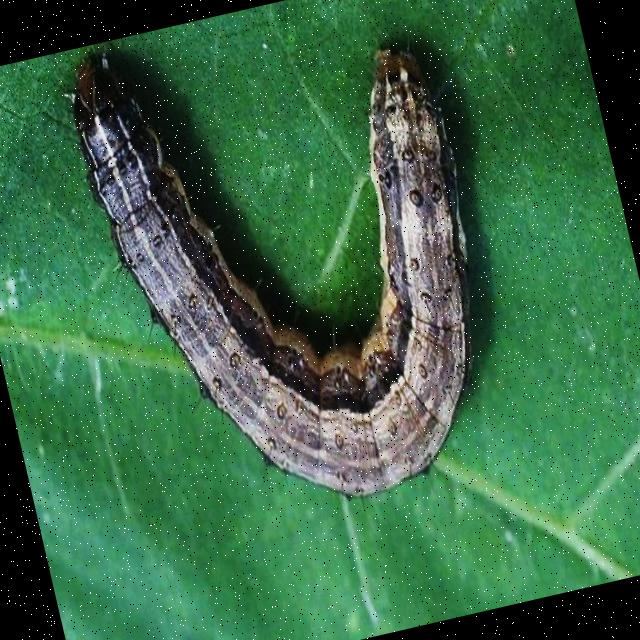worm: (56, 1, 527, 545)
